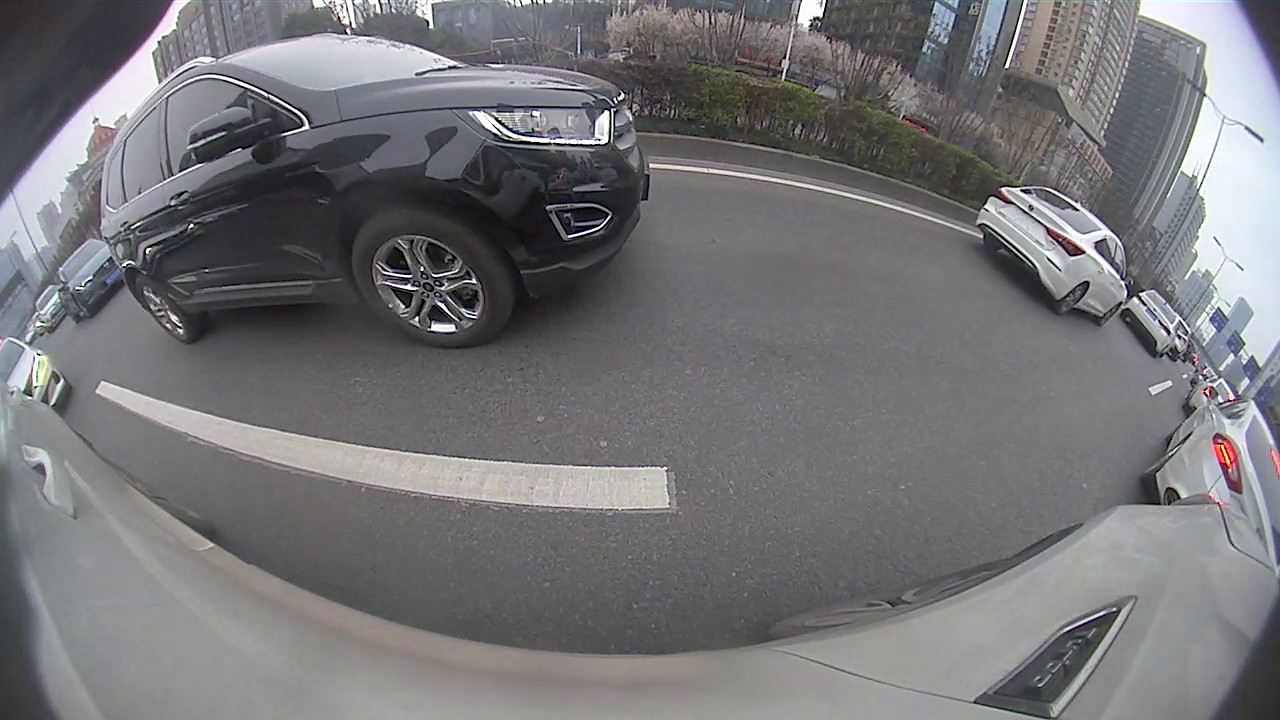car: (98, 33, 653, 348), (1138, 385, 1279, 583), (976, 186, 1133, 326), (53, 237, 125, 323), (1118, 288, 1183, 359)
front: (349, 209, 516, 346)
rear: (132, 277, 190, 345), (1058, 283, 1090, 314)
